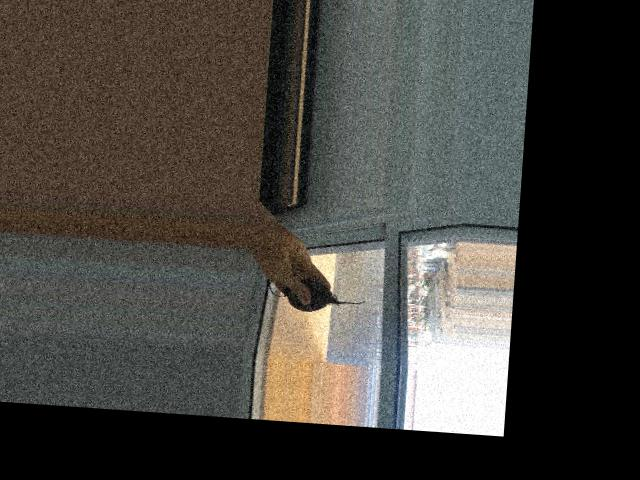beet: (268, 266, 367, 315)
